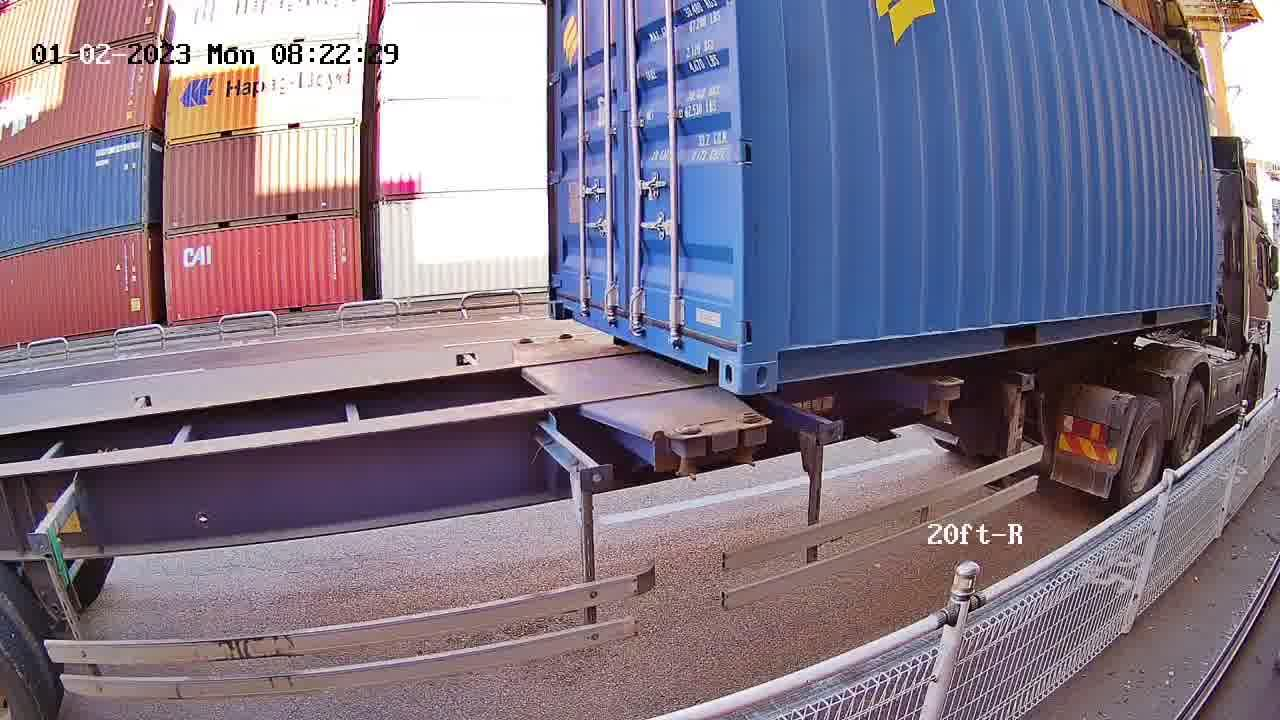Chassis: (512, 336, 714, 440), (565, 334, 770, 430)
Cone: (667, 424, 706, 484), (732, 411, 767, 466)
Hole_L: (740, 320, 810, 396), (548, 275, 579, 326)
Hole_R: (695, 316, 741, 397)
Tire: (1123, 401, 1167, 506), (1172, 385, 1209, 475)
